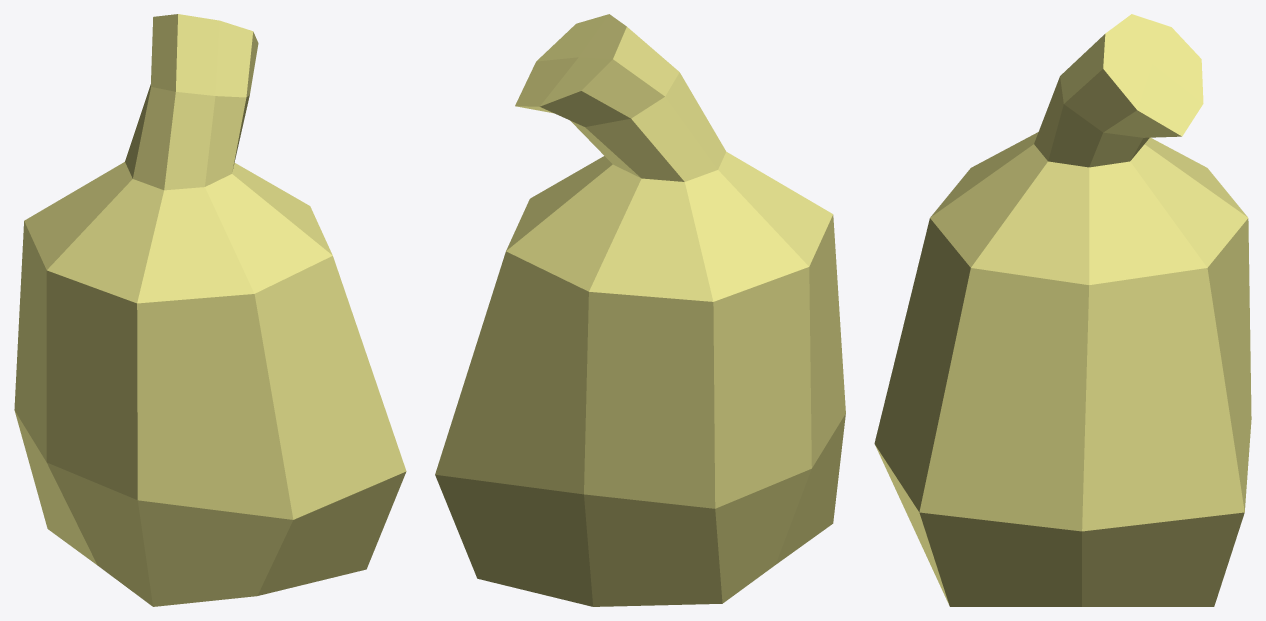
File: Bag.fbx
3 views of the same model, side by side, from view 1: azimuth 30°, elevation 25°; view 2: azimuth 150°, elevation 25°; view 3: azimuth 270°, elevation 25° (orthographic). The views are drawn at different scales.
Parts seen in each view (by area): view 1: Bag; view 2: Bag; view 3: Bag.
Boxes of the visible parts, left/top/right/bottom form: Bag: left=14, top=14, right=406, bottom=606; Bag: left=435, top=14, right=845, bottom=606; Bag: left=874, top=14, right=1251, bottom=606.
Size of the model in its own units: 153 by 249 by 151.
